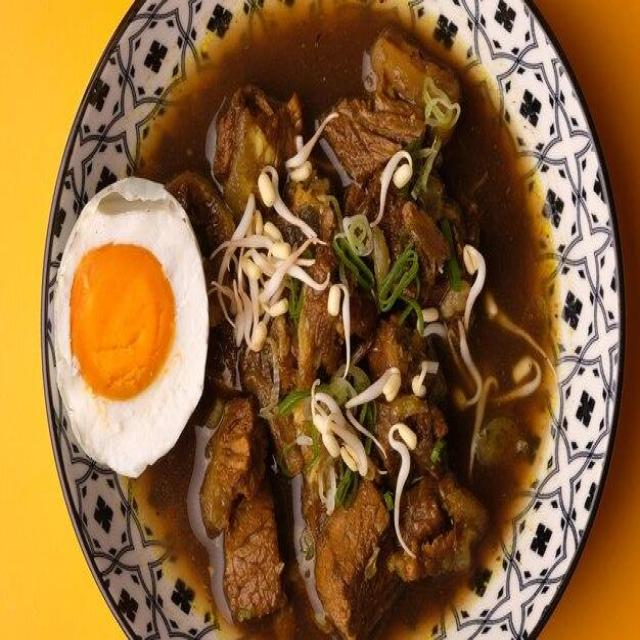Rawon: (114, 17, 552, 604)
